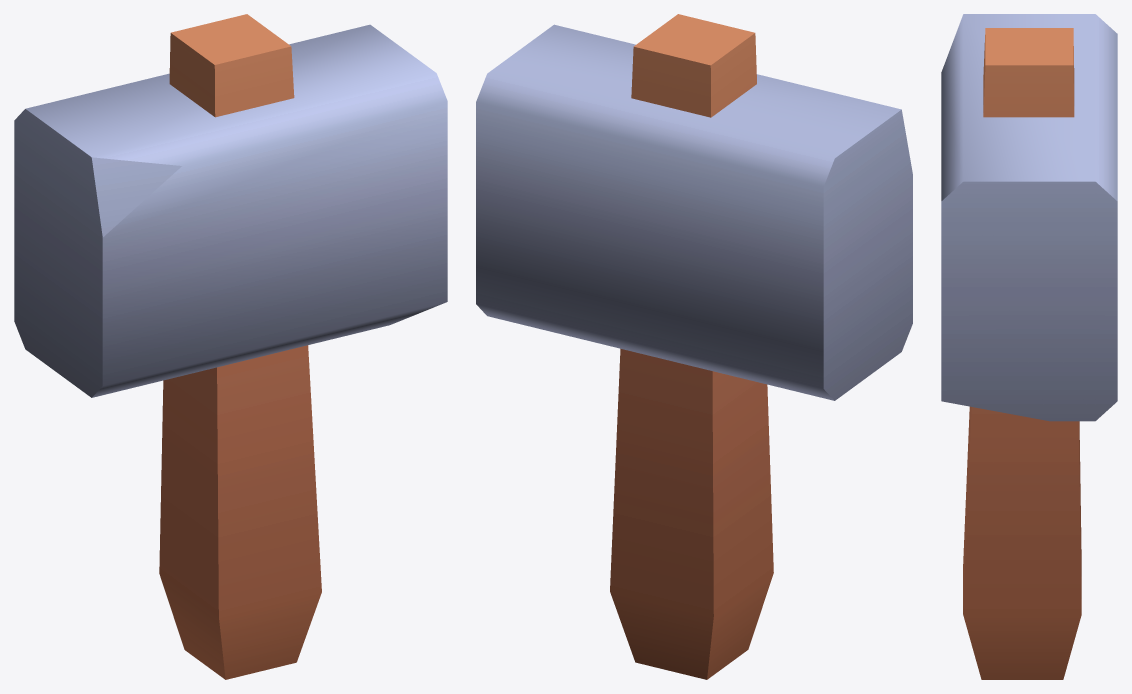
The model's file is tool-hammer.glb.
The picture shows the model from 3 angles, left to right: view 1: azimuth 30°, elevation 25°; view 2: azimuth 150°, elevation 25°; view 3: azimuth 270°, elevation 25°; orthographic projection.
Visible parts, largest first — view 1: tool-hammer; view 2: tool-hammer; view 3: tool-hammer.
Part boxes in pixels (x1,y1,x2,y2): tool-hammer: (14,14,447,679); tool-hammer: (476,14,912,679); tool-hammer: (941,14,1117,679).
Bounding box in the file's own units: 0.09 × 0.1535 × 0.04.
1 material, 1 textured.
